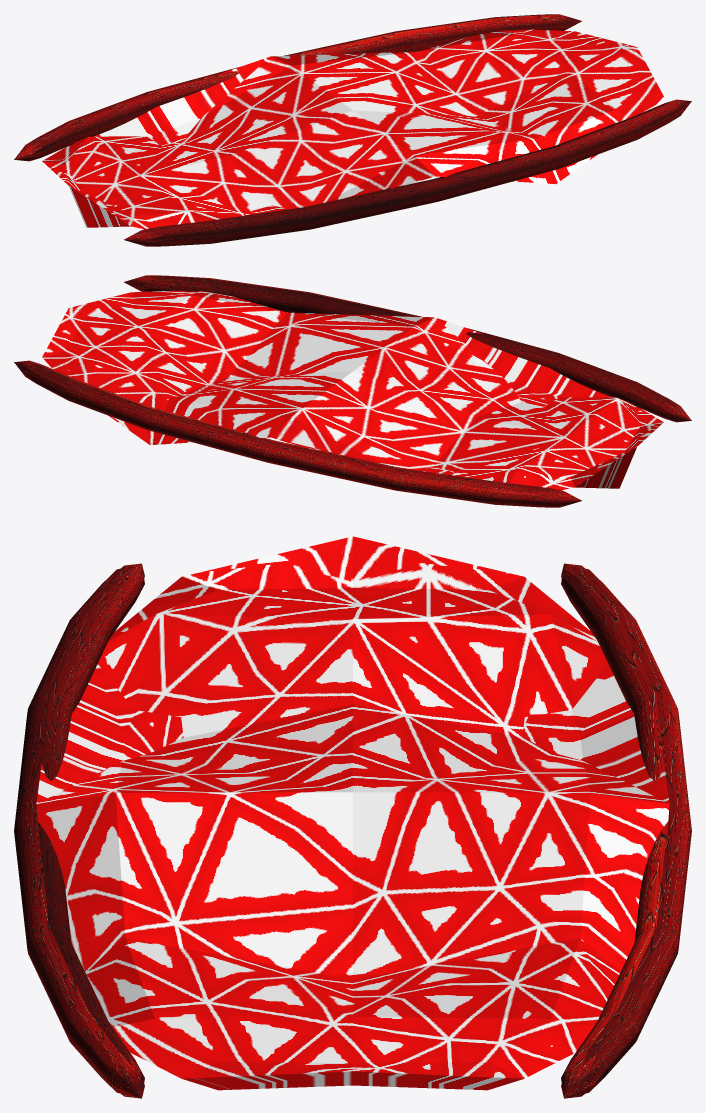
3 views of the same model, one above another, from view 1: azimuth 30°, elevation 25°; view 2: azimuth 150°, elevation 25°; view 3: azimuth 270°, elevation 25° (orthographic). The views are drawn at different scales.
Visible parts, largest first — view 1: destroy_platform_W2; view 2: destroy_platform_W2; view 3: destroy_platform_W2.
Boxes of the visible parts, x1,y1,x2,y2 form: destroy_platform_W2: (14, 14, 691, 246); destroy_platform_W2: (14, 275, 691, 507); destroy_platform_W2: (14, 536, 691, 1098).
Size of the model in its own units: 1200 by 109 by 643.
